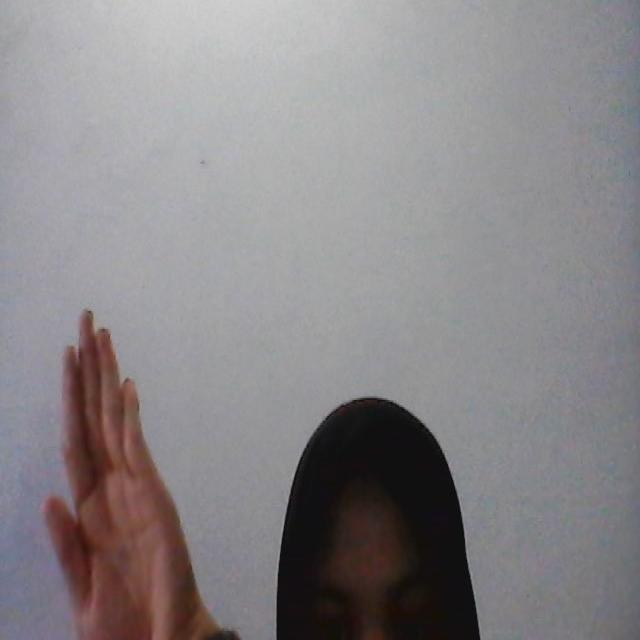hand: (42, 302, 243, 640)
